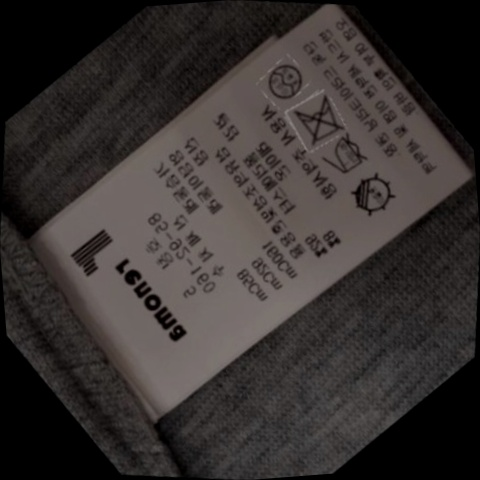DN_wash: (286, 94, 346, 146)
dry_clean_petrol_only: (260, 57, 307, 103)
iron_low: (320, 133, 373, 180)
line_dry_in_shade: (341, 171, 398, 220)
